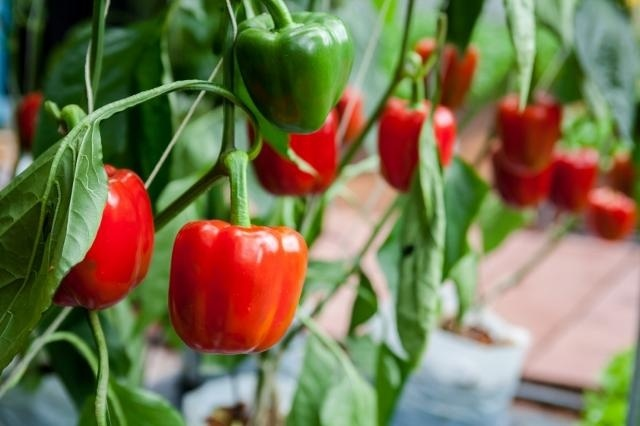fruit: (166, 216, 308, 357), (54, 162, 153, 309), (235, 8, 349, 133), (246, 108, 339, 195), (377, 93, 456, 194), (495, 88, 561, 167), (414, 35, 479, 108), (492, 146, 552, 208), (552, 147, 599, 214), (588, 184, 639, 243)
pedicle: (271, 19, 304, 35)
